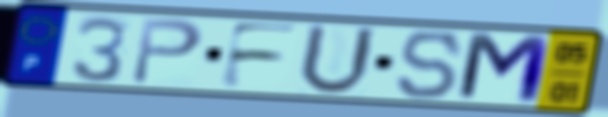3: (73, 13, 128, 85)
F: (216, 20, 305, 91)
M: (452, 30, 555, 108)
P: (128, 16, 207, 87)
S: (395, 28, 466, 102)
U: (294, 21, 380, 98)
